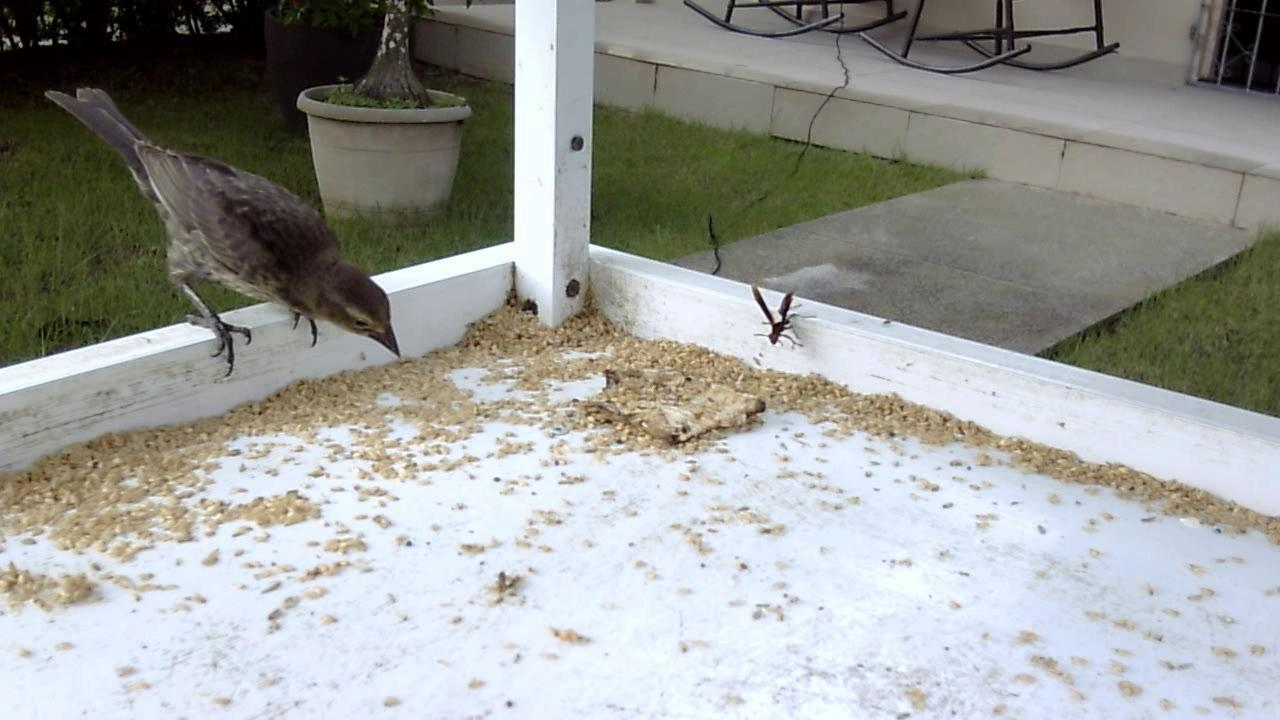chupim: (40, 89, 394, 390)
